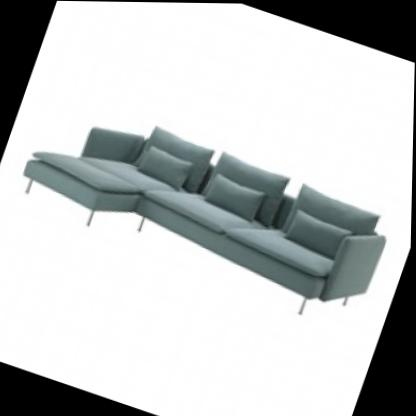Sofa: (0, 55, 415, 347)
